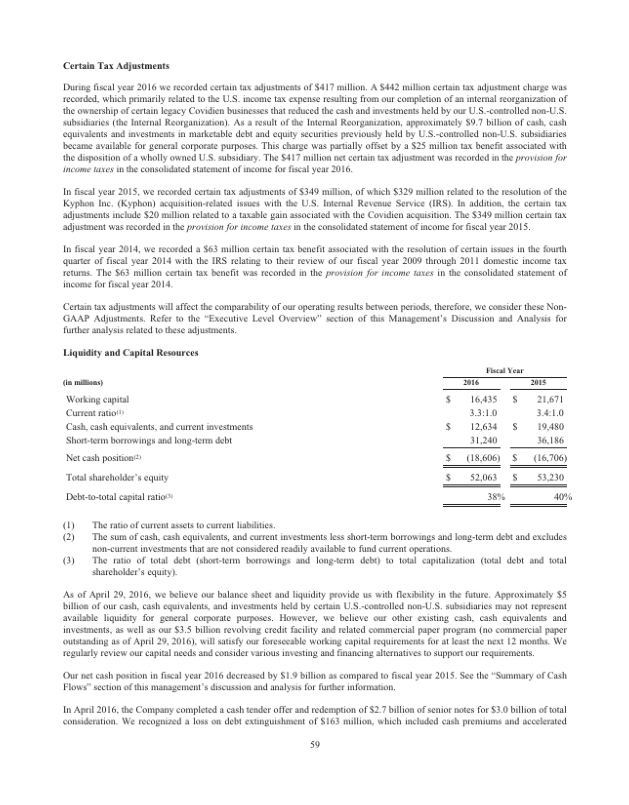table: (438, 363, 570, 514)
